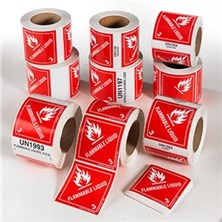FlammableLiquid: (74, 112, 122, 171)
